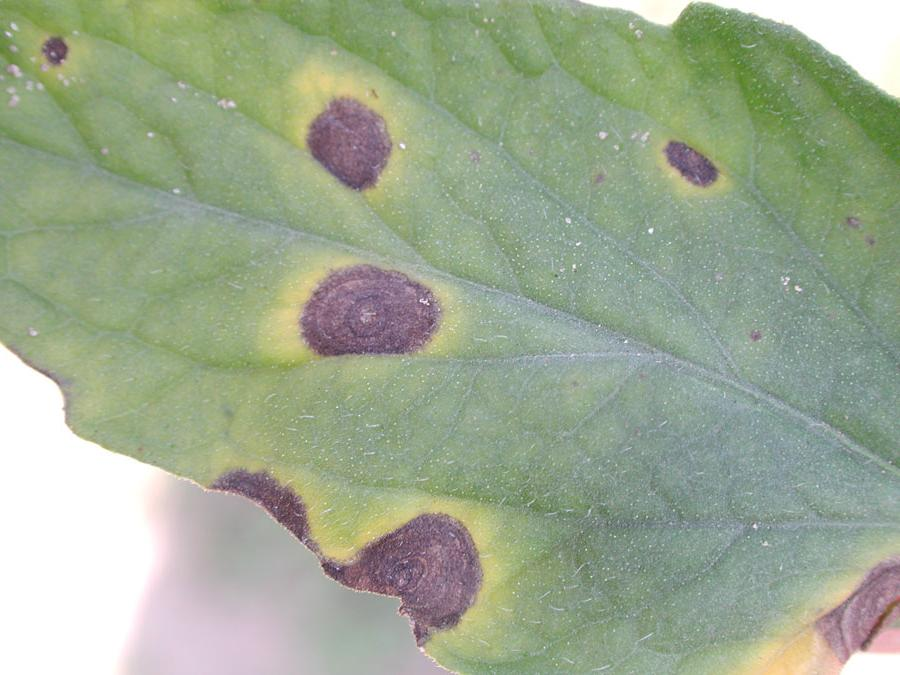Tomato Early blight leaf: (6, 12, 897, 665)
